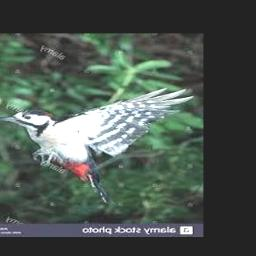Woodpecker: (0, 87, 193, 203)
